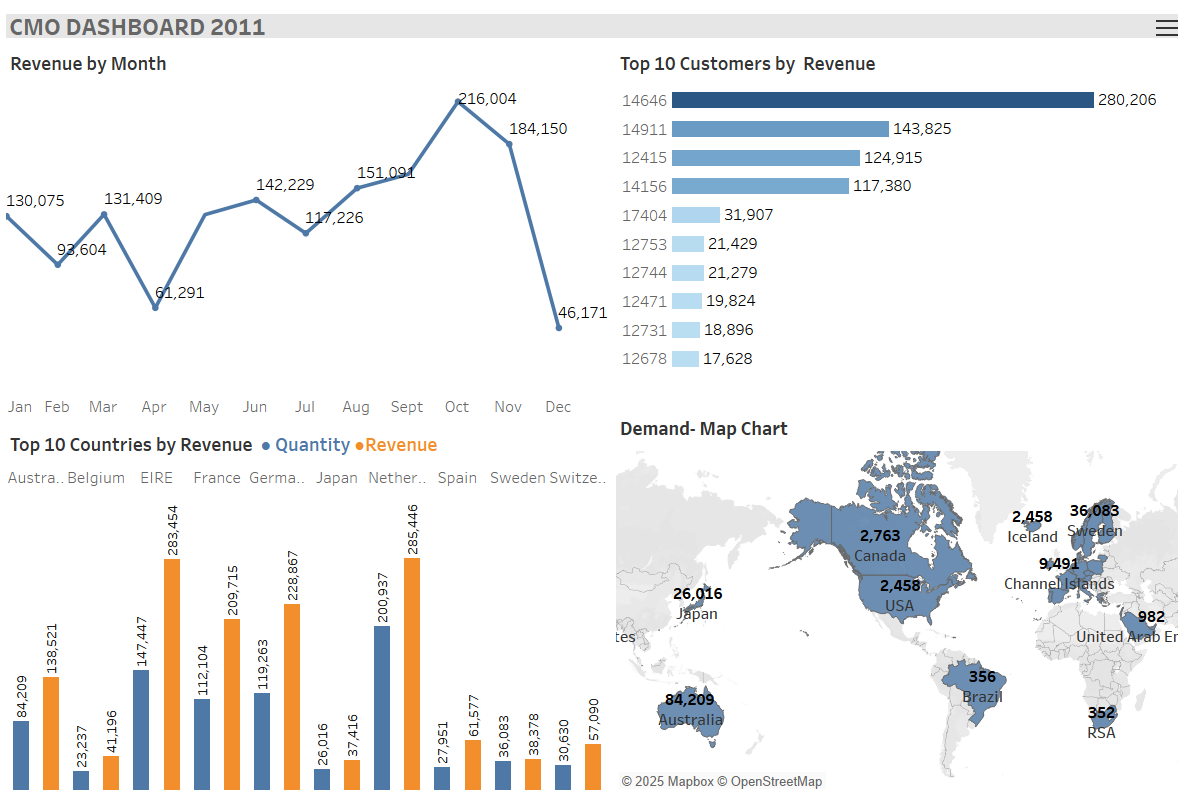

The page's visual inventory and layout, read from the dashboard file:
{"tool":"tableau","page":{"name":"CMO Dashboard","canvas":[1200,801],"ordinal":0},"visuals":[{"type":"text","box":[8,8,1184,32]},{"type":"dashboard-object","box":[1151,14,44,24]},{"type":"filter","title":"Question 1","param":"[federated.18tfekz1jgl1ld15o1ftz1nkx5j6].[none:Country:nk]","box":[844.7,34,293.4,61]},{"type":"worksheet","title":"Question 1","mark":"Line","rows":["Calculation_265712411651047424"],"cols":["InvoiceDate"],"box":[8,40,592,384]},{"type":"worksheet","title":"Question 3","mark":"Bar","rows":["CustomerID"],"cols":["Calculation_265712411651047424"],"box":[600,40,592,335]},{"type":"filter","title":"Question 1","param":"[federated.18tfekz1jgl1ld15o1ftz1nkx5j6].[none:StockCode:nk]","box":[844.7,95,293.4,61]},{"type":"filter","title":"Question 1","param":"[federated.18tfekz1jgl1ld15o1ftz1nkx5j6].[ctd:Quantity:qk]","box":[844.7,156,293.4,55]},{"type":"filter","title":"Question 1","param":"[federated.18tfekz1jgl1ld15o1ftz1nkx5j6].[none:Calculation_265712411651047424:qk","box":[844.7,211,293.4,55]},{"type":"worksheet","title":"Question 4","mark":"Multipolygon","box":[600,404.5,592,388.5]},{"type":"worksheet","title":"Qestion 2","mark":"Automatic","rows":["Country"],"cols":["Quantity"],"box":[8,424,592,369]}]}

Visuals, with their boxes on the page's 1200x801 design canvas (x1, y1, x2, y2). These are canvas units, not pixel positions in the 1178x812 screenshot, which may show the page scaled, cropped or inside an application window:
text: [8,8,1192,40]
dashboard-object: [1151,14,1195,38]
"Question 1" filter: [845,34,1138,95]
"Question 1" worksheet (Line marks): [8,40,600,424]
"Question 3" worksheet (Bar marks): [600,40,1192,375]
"Question 1" filter: [845,95,1138,156]
"Question 1" filter: [845,156,1138,211]
"Question 1" filter: [845,211,1138,266]
"Question 4" worksheet (Multipolygon marks): [600,404,1192,793]
"Qestion 2" worksheet: [8,424,600,793]
